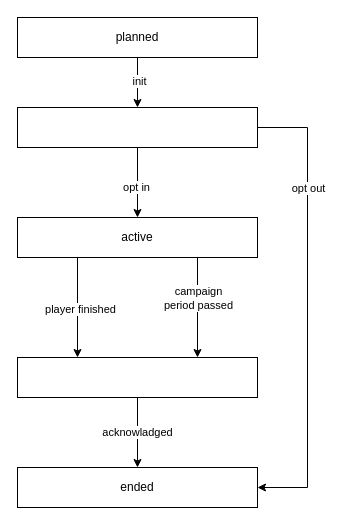
Some shapes in this 342 by 525 pixel diagram are drawn without their labels. The shapes that lost their labels are listed below. From the top down, each one's centre as x and y in pixels, then its label:
At [137,127]: "started".
At [137,377]: "finished".
